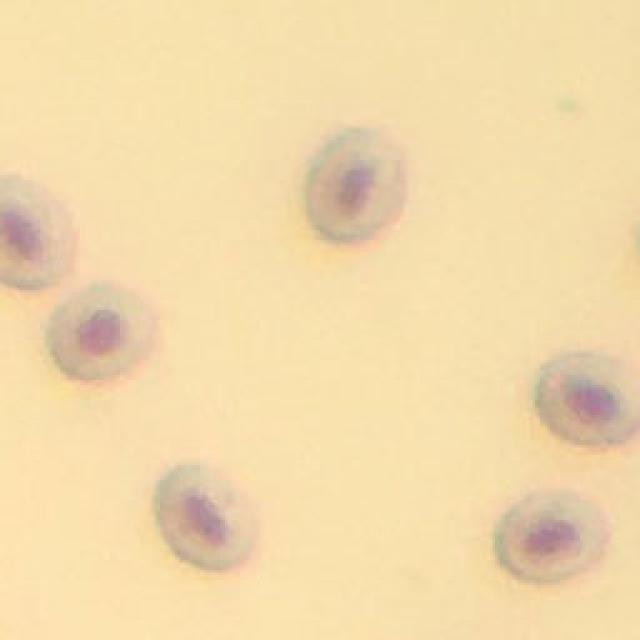RBC: (306, 128, 408, 242), (155, 465, 258, 572), (498, 491, 612, 585), (48, 282, 155, 382), (538, 355, 640, 448), (0, 178, 76, 290)
